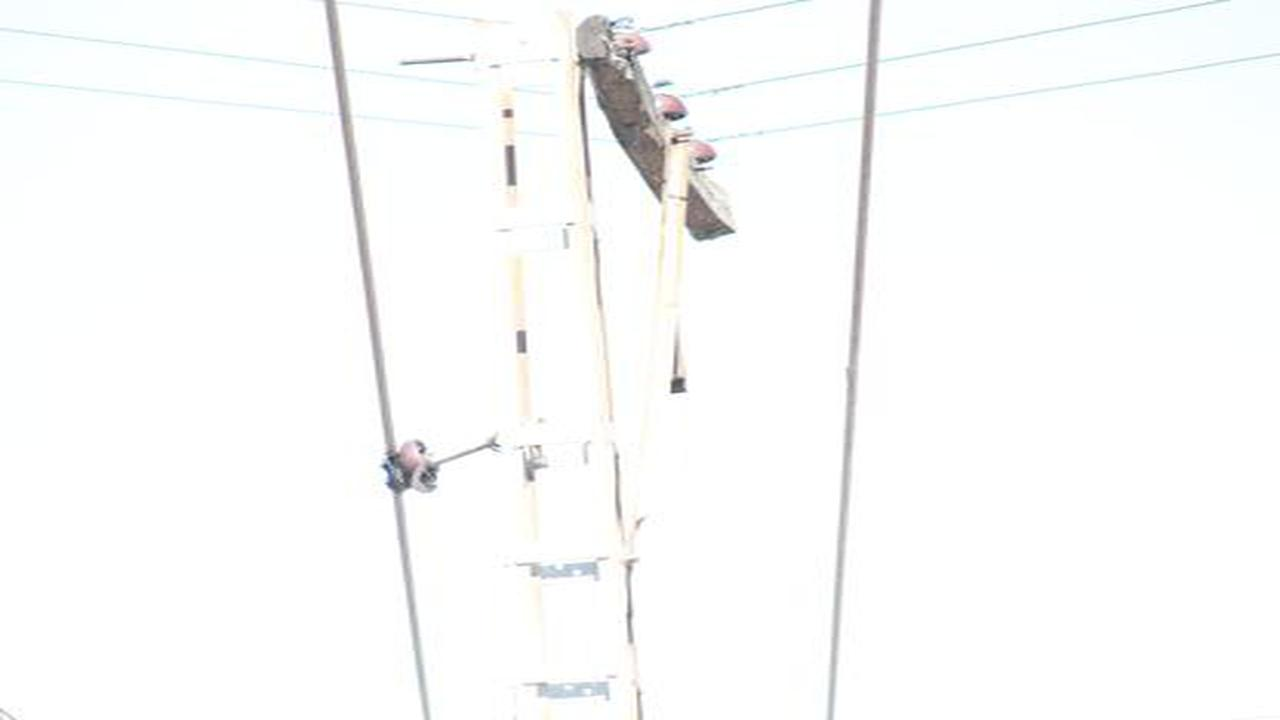insulator_pin: (380, 434, 447, 501), (651, 76, 689, 127), (610, 14, 652, 58)
